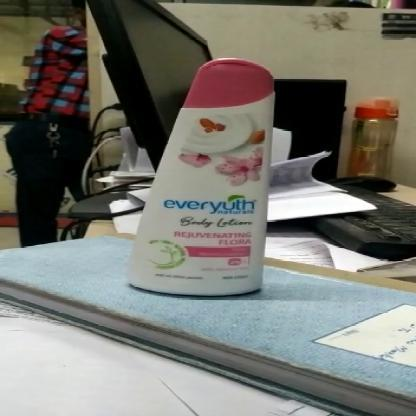Everyuth Naturals Body Lotion Rejuvenating Flora 200ml: (119, 55, 280, 297)
